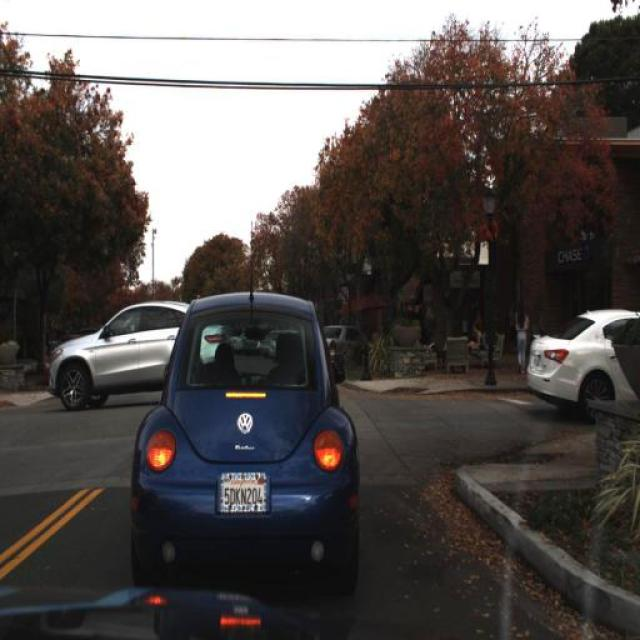car: (126, 272, 363, 598), (44, 294, 221, 414), (526, 308, 639, 422), (317, 319, 363, 365)
trafficLight: (512, 295, 526, 379), (467, 313, 483, 359), (530, 300, 544, 350)
